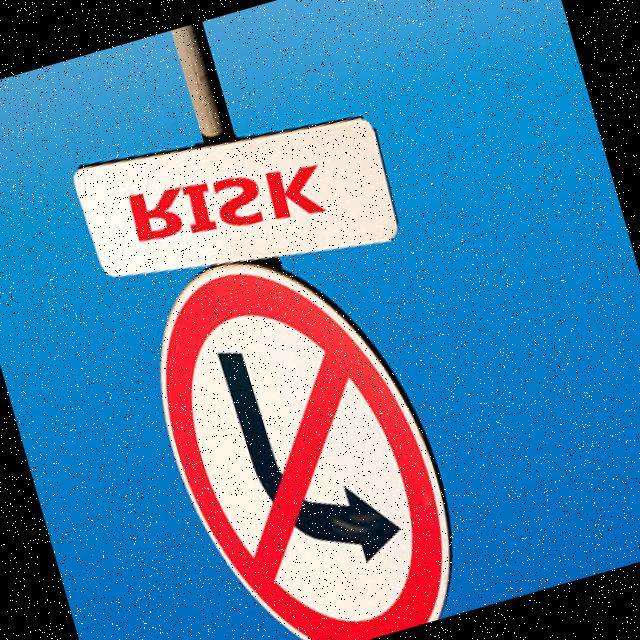do_not_turn_right: (124, 227, 475, 640)
